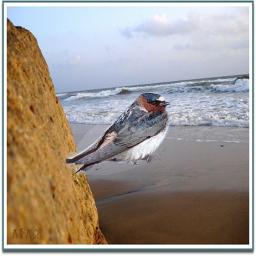Swallow: (66, 92, 170, 175)
